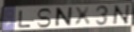3: (94, 4, 110, 28)
L: (18, 10, 33, 29)
N: (53, 6, 74, 29), (111, 4, 131, 26)
S: (36, 8, 54, 29)
X: (73, 6, 92, 28)
